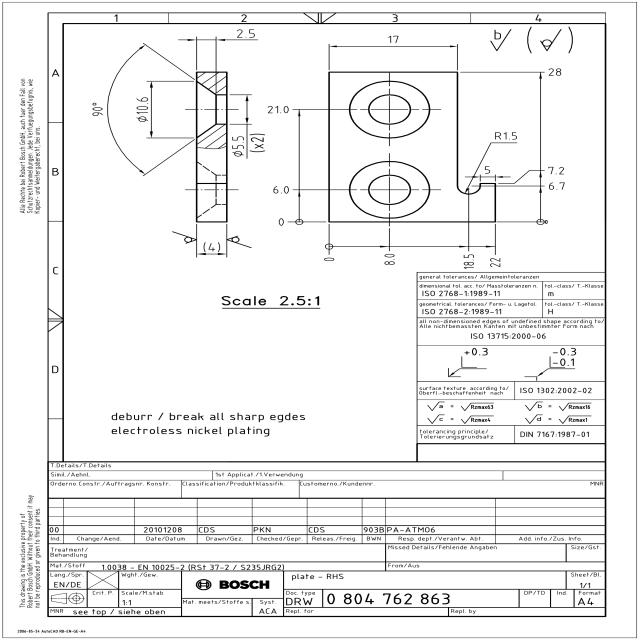dimension: (232, 132, 267, 158), (134, 95, 152, 124), (493, 130, 521, 142), (460, 253, 478, 271), (200, 239, 223, 253), (235, 27, 258, 40), (265, 104, 291, 115), (546, 163, 568, 176), (88, 102, 104, 119), (381, 252, 397, 268), (271, 184, 291, 196), (546, 66, 566, 78), (545, 181, 568, 191), (488, 256, 502, 270), (386, 34, 401, 45), (481, 164, 493, 176), (276, 216, 286, 227), (322, 256, 336, 263)
